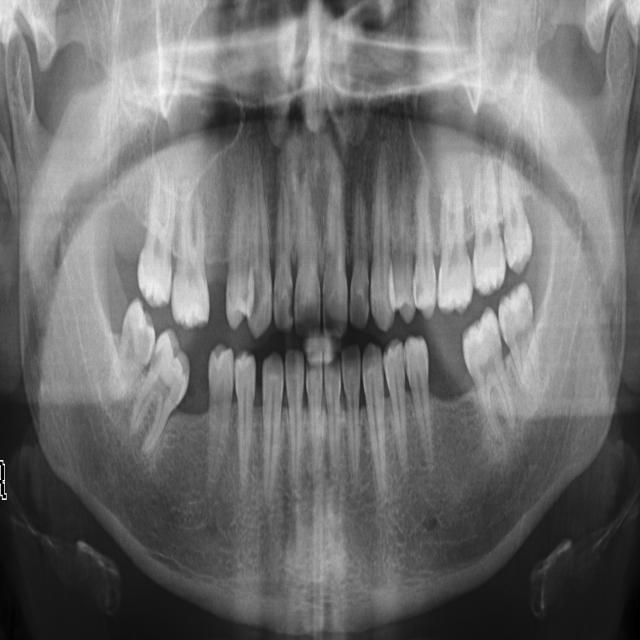tooth: (131, 329, 190, 452), (461, 310, 515, 434), (171, 197, 209, 327), (438, 171, 472, 312), (322, 156, 347, 341), (294, 161, 320, 334), (138, 176, 172, 304), (112, 298, 155, 398), (499, 283, 539, 388), (472, 167, 504, 292), (413, 171, 439, 315), (370, 167, 392, 327), (391, 176, 415, 321), (349, 167, 370, 328), (500, 165, 531, 272), (361, 344, 386, 472), (273, 171, 293, 330), (250, 190, 272, 334), (262, 352, 284, 489), (383, 340, 407, 464), (226, 222, 252, 329), (235, 351, 255, 483), (284, 349, 304, 476), (305, 348, 326, 464), (406, 336, 430, 436), (208, 346, 233, 434), (343, 343, 360, 472), (324, 348, 342, 463)
